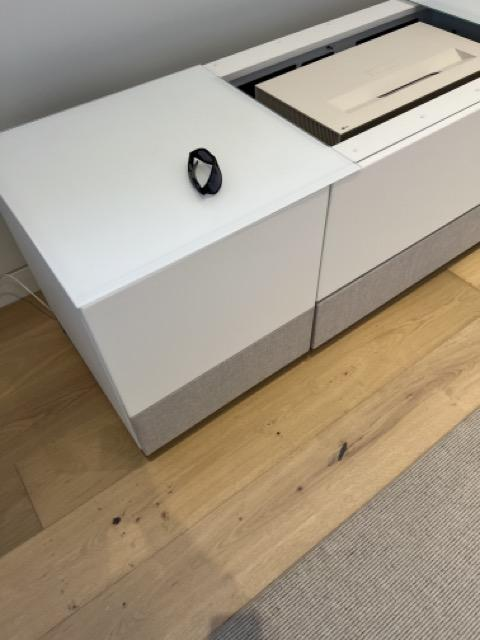Sunglasses: (188, 146, 224, 196)
